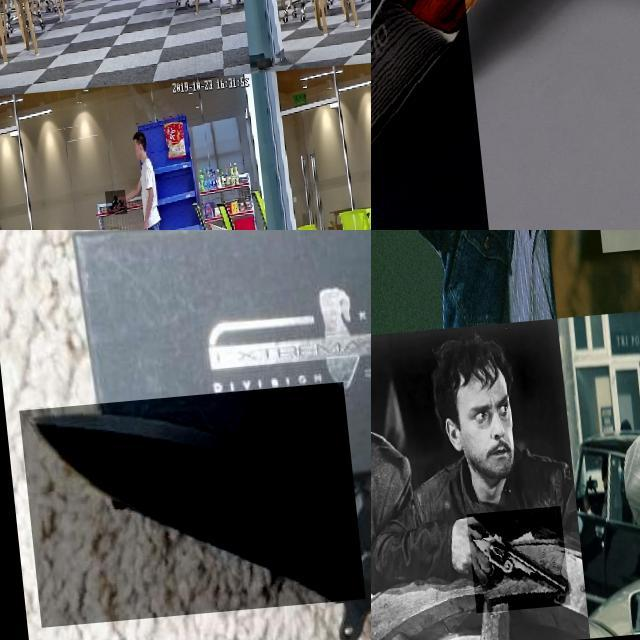-: (14, 388, 356, 628), (371, 0, 524, 230)
gun-knife-thesis - v11 Yolov5 augmented: (456, 512, 558, 618), (371, 572, 419, 630), (371, 230, 404, 284), (96, 194, 118, 218), (85, 0, 99, 13)
